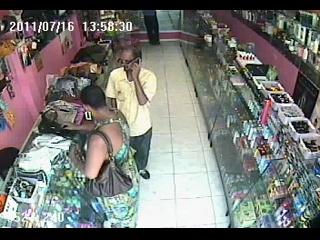Normal: (68, 85, 140, 225), (104, 46, 158, 180), (142, 10, 160, 46)
